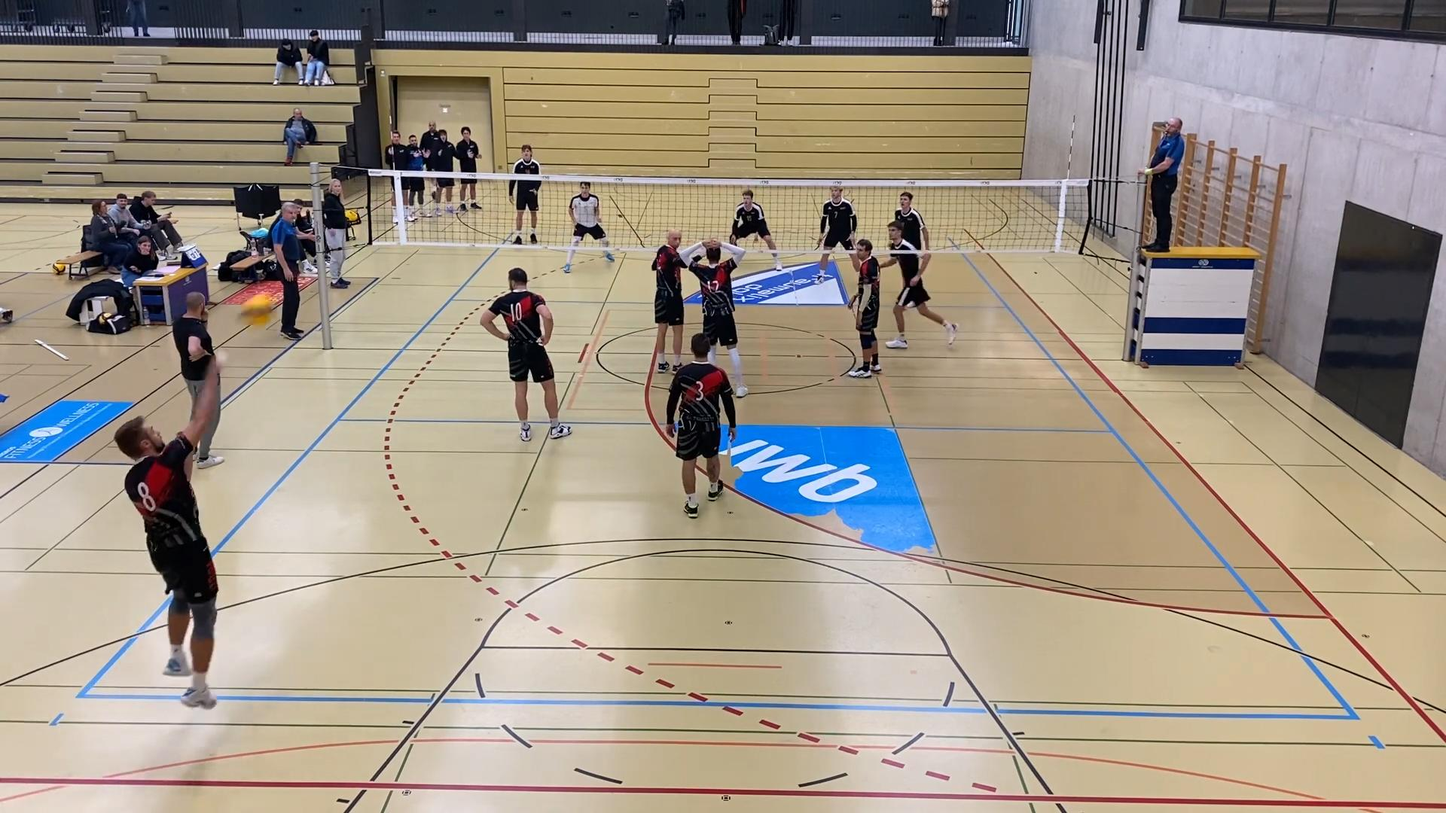battuta: (111, 343, 251, 720)
